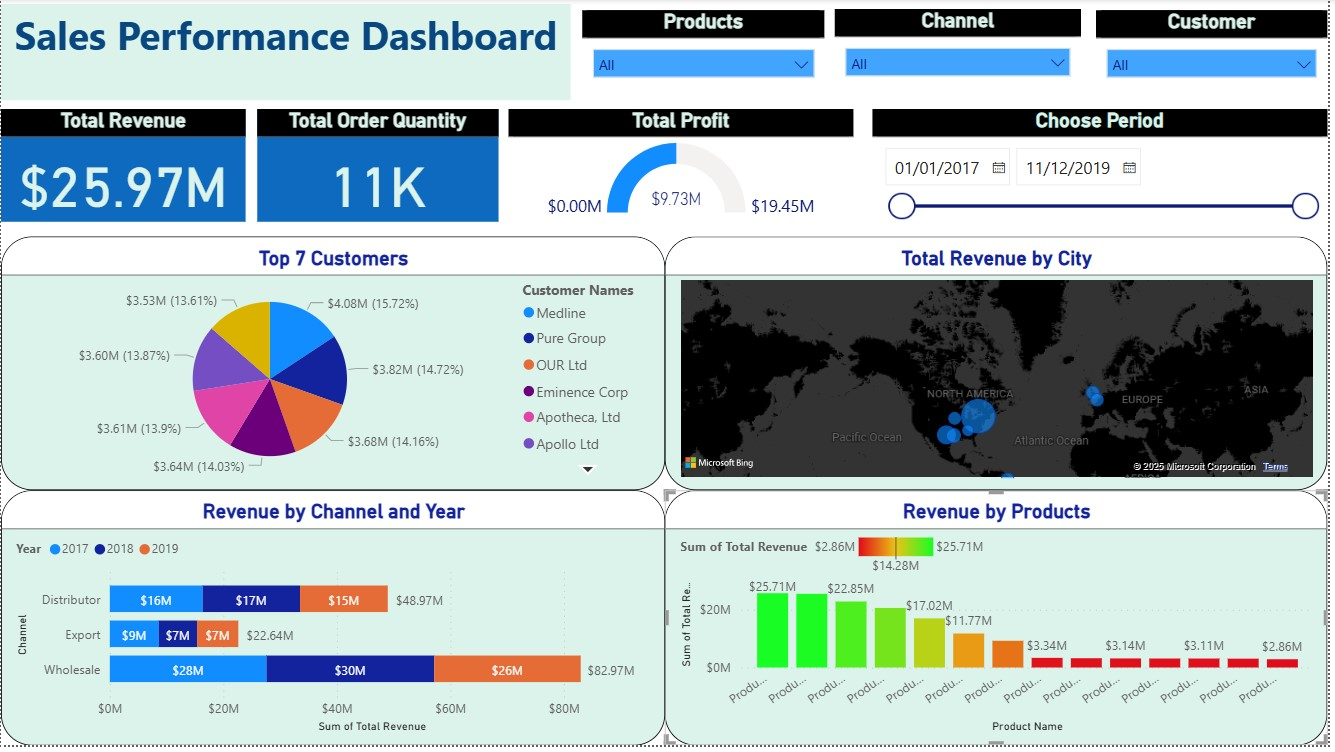

The dashboard page shown, as its layout file describes it:
{"tool":"powerbi","page":{"name":"Page 1","canvas":[1280,720],"ordinal":0},"visuals":[{"type":"pieChart","title":"Top 7 Customers","fields":{"Category":["Customer_Data.Customer Names"],"Y":["Sum(Sales_Data.Total Revenue)"]},"box":[0,229.1,640.4,244.8],"z":0},{"type":"columnChart","title":"Revenue by Products","fields":{"Category":["Products_Data.Product Name"],"Y":["Sum(Sales_Data.Total Revenue)"]},"box":[640.4,474,639.2,246],"z":1000},{"type":"barChart","title":"Revenue by Channel and Year","fields":{"Category":["Sales_Data.Channel"],"Y":["Sum(Sales_Data.Total Revenue)"],"Series":["Sales_Data.OrderDate.Variation.Date Hierarchy.Year"]},"box":[0,474,640.4,246],"z":2000},{"type":"map","title":"Total Revenue by City","fields":{"Category":["Regions_Table.City"],"Size":["Sum(Sales_Data.Total Revenue)"]},"box":[640.4,229.1,639.2,244.8],"z":3000},{"type":"card","title":"Total Revenue","fields":{"Values":["Sum(Sales_Data.Total Revenue)"]},"box":[0,106.1,236.4,108.5],"z":4000},{"type":"card","title":"Total Order Quantity","fields":{"Values":["Sum(Sales_Data.Order Quantity)"]},"box":[247.2,106.1,232.8,108.5],"z":5000},{"type":"gauge","title":"Total Profit","fields":{"Y":["Sum(Sales_Data.Profit)"]},"box":[489.6,106.1,332.9,108.5],"z":6000},{"type":"slicer","title":"Choose Period","fields":{"Values":["Sales_Data.OrderDate"]},"box":[840.6,106.1,439,108.5],"z":7000},{"type":"slicer","title":"Products","fields":{"Values":["Products_Data.Product Name"]},"box":[560.8,10.9,234,85.6],"z":8000},{"type":"slicer","title":"Customer","fields":{"Values":["Customer_Data.Customer Names"]},"box":[1056.5,10.9,223.1,86.8],"z":9000},{"type":"slicer","title":"Channel","fields":{"Values":["Sales_Data.Channel"]},"box":[804.4,9.6,237.6,85.6],"z":10000},{"type":"textbox","box":[0,4.8,549.9,92.9],"z":11000}]}

Visuals, with their boxes in screenshot pixels (x1, y1, x2, y2), scaled from the page's 1280x720 canvas onto the 1335x752 screenshot:
"Top 7 Customers" pieChart: bbox(0, 239, 668, 495)
"Revenue by Products" columnChart: bbox(668, 495, 1334, 751)
"Revenue by Channel and Year" barChart: bbox(0, 495, 668, 751)
"Total Revenue by City" map: bbox(668, 239, 1334, 495)
"Total Revenue" card: bbox(0, 111, 247, 224)
"Total Order Quantity" card: bbox(258, 111, 501, 224)
"Total Profit" gauge: bbox(511, 111, 858, 224)
"Choose Period" slicer: bbox(877, 111, 1334, 224)
"Products" slicer: bbox(585, 11, 829, 101)
"Customer" slicer: bbox(1102, 11, 1334, 102)
"Channel" slicer: bbox(839, 10, 1087, 99)
textbox: bbox(0, 5, 574, 102)
